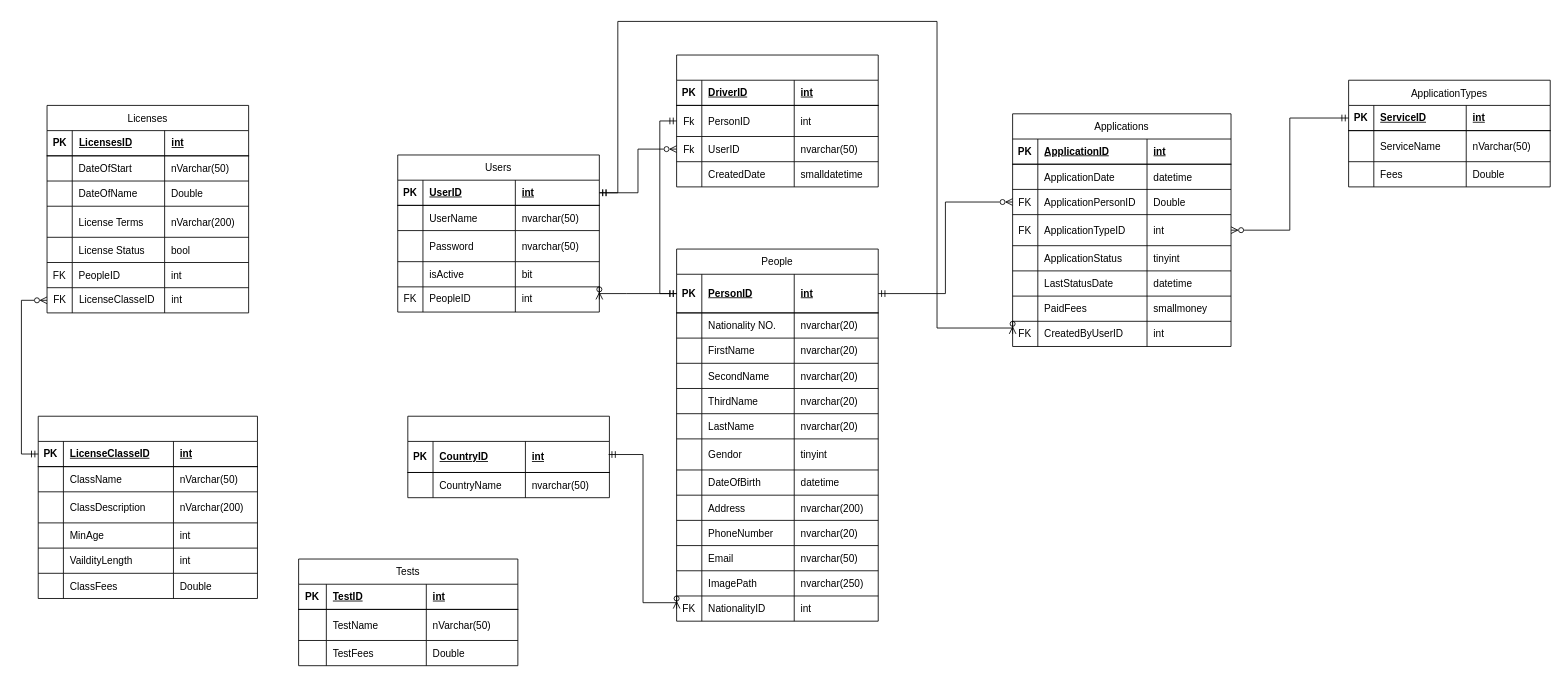
Some shapes in this 1565 by 680 pixel diagram are drawn without their labels. Each missing label, with the box of its shape:
Countries: (407, 415, 609, 498)
Drivers: (676, 54, 878, 187)
License Classes: (37, 415, 257, 598)
